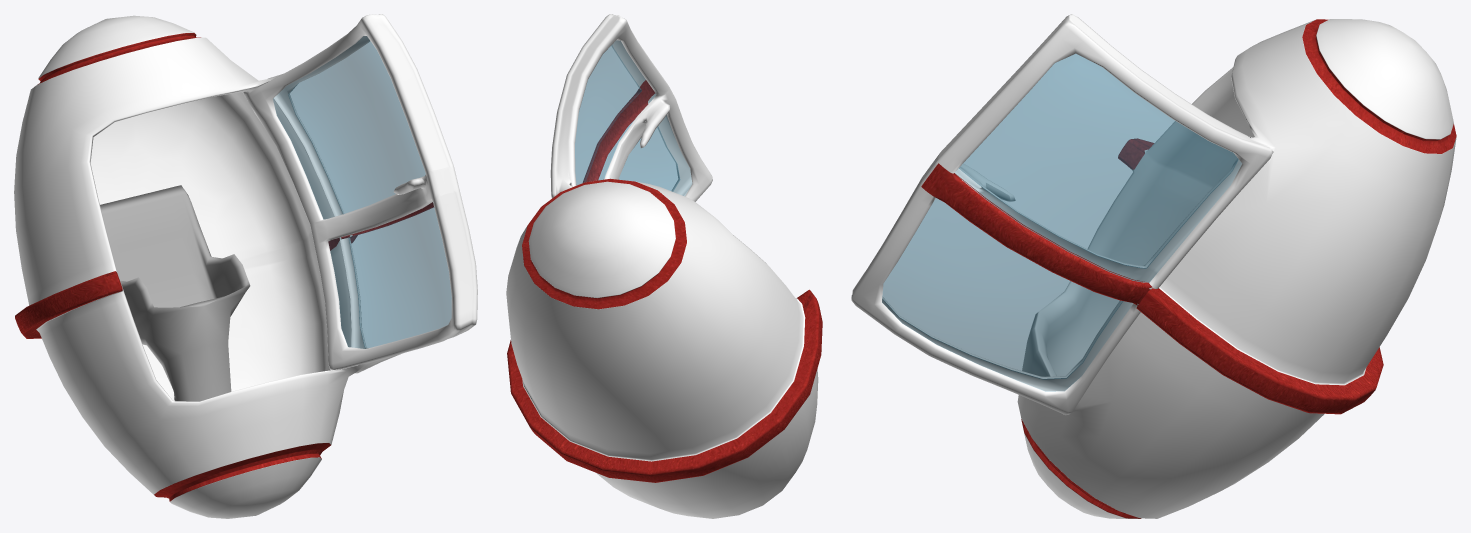
Rendered from EscapePod.fbx.
3 views of the same model, side by side, from view 1: azimuth 30°, elevation 25°; view 2: azimuth 150°, elevation 25°; view 3: azimuth 270°, elevation 25° (orthographic). The views are drawn at different scales.
Visible parts, largest first — view 1: Escapepod_geo; view 2: Escapepod_geo; view 3: Escapepod_geo.
Part boxes in pixels (<box>): Escapepod_geo: <box>14,14,477,518</box>; Escapepod_geo: <box>506,14,822,518</box>; Escapepod_geo: <box>851,14,1456,518</box>.
Size of the model in its own units: 23.42 by 33.96 by 33.33.
6 materials, 3 textured.
